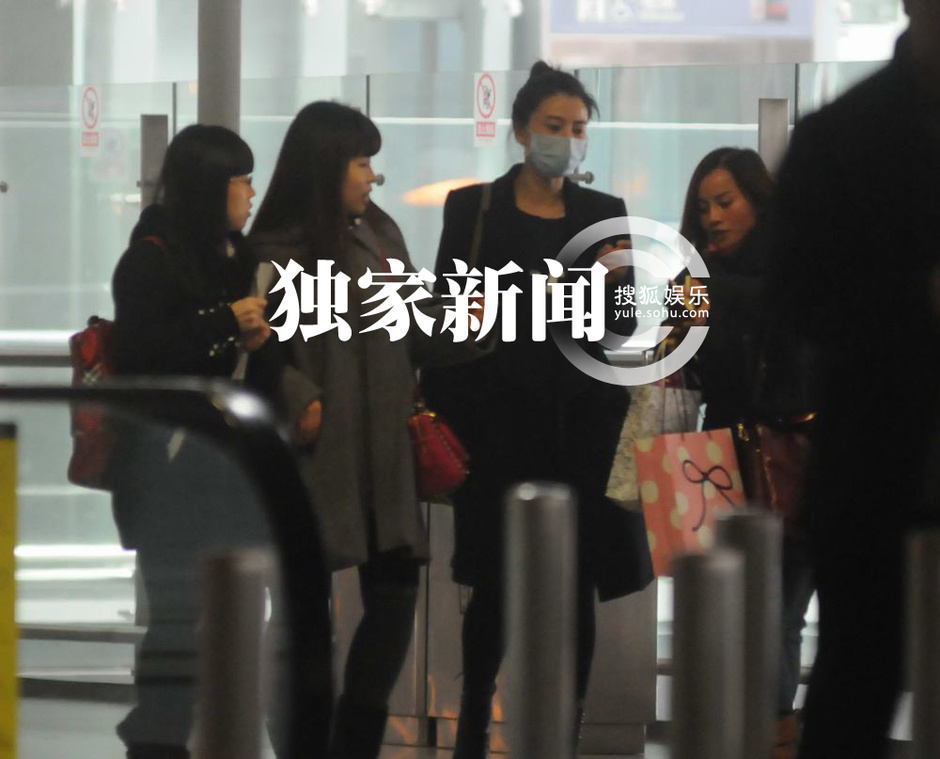face: (694, 175, 756, 252), (334, 145, 379, 214), (211, 162, 254, 232)
face_mask: (527, 97, 589, 177)
